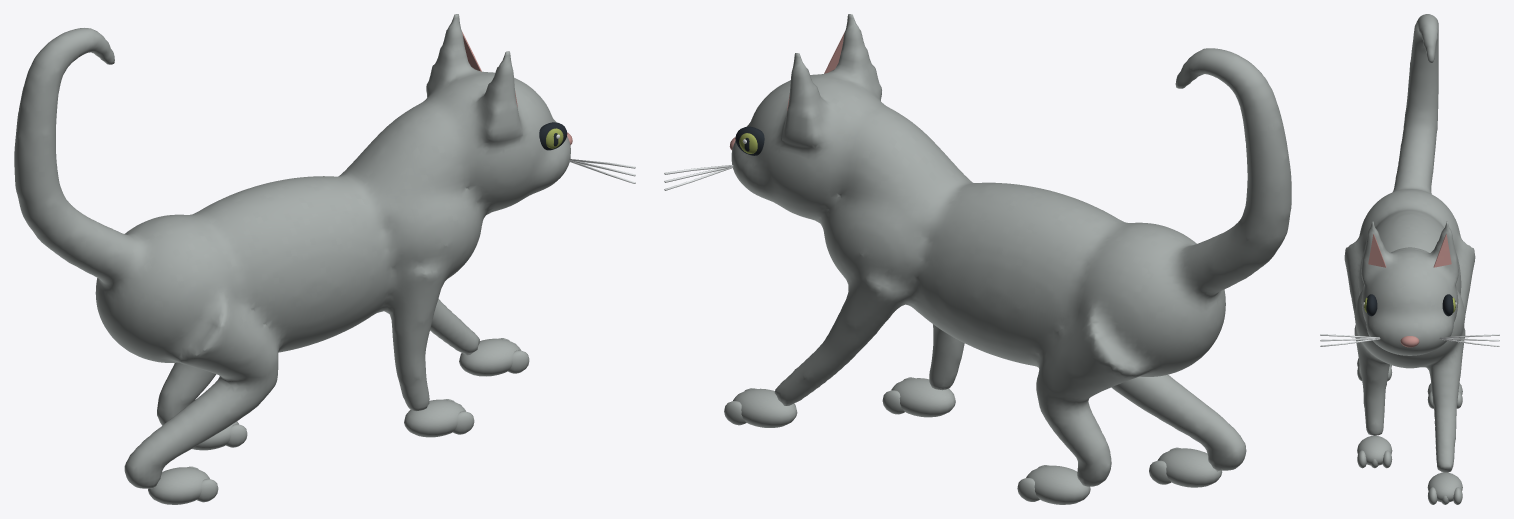
The model's file is domestic-cat-walking.glb.
3 views of the same model, side by side, from view 1: azimuth 30°, elevation 25°; view 2: azimuth 150°, elevation 25°; view 3: azimuth 270°, elevation 25° (orthographic). The views are drawn at different scales.
Parts seen in each view (by area): view 1: Continuous anatomical skin, Rounded paw, Rounded paw.001, Rounded paw.002; view 2: Continuous anatomical skin, Rounded paw.003, Rounded paw, Rounded paw.001, Rounded paw.002; view 3: Continuous anatomical skin, Rounded paw, Rounded paw.002, Pink inner pinna fitted to skin, Pink inner pinna fitted to skin.001.
Boxes of the visible parts, bbox=[...] form: Continuous anatomical skin: bbox=[14, 14, 570, 488]; Rounded paw: bbox=[404, 399, 465, 437]; Rounded paw.001: bbox=[148, 467, 209, 504]; Rounded paw.002: bbox=[459, 338, 520, 376]; Continuous anatomical skin: bbox=[731, 14, 1291, 486]; Rounded paw.003: bbox=[1026, 465, 1090, 504]; Rounded paw: bbox=[891, 378, 955, 417]; Rounded paw.001: bbox=[1157, 448, 1222, 487]; Rounded paw.002: bbox=[733, 388, 797, 427]; Continuous anatomical skin: bbox=[1344, 14, 1475, 472]; Rounded paw: bbox=[1357, 435, 1392, 465]; Rounded paw.002: bbox=[1427, 472, 1462, 502]; Pink inner pinna fitted to skin: bbox=[1368, 234, 1386, 267]; Pink inner pinna fitted to skin.001: bbox=[1433, 234, 1451, 267].
Size of the model in its own units: 0.5364 by 0.43 by 0.2101.
5 materials, 5 textured.
